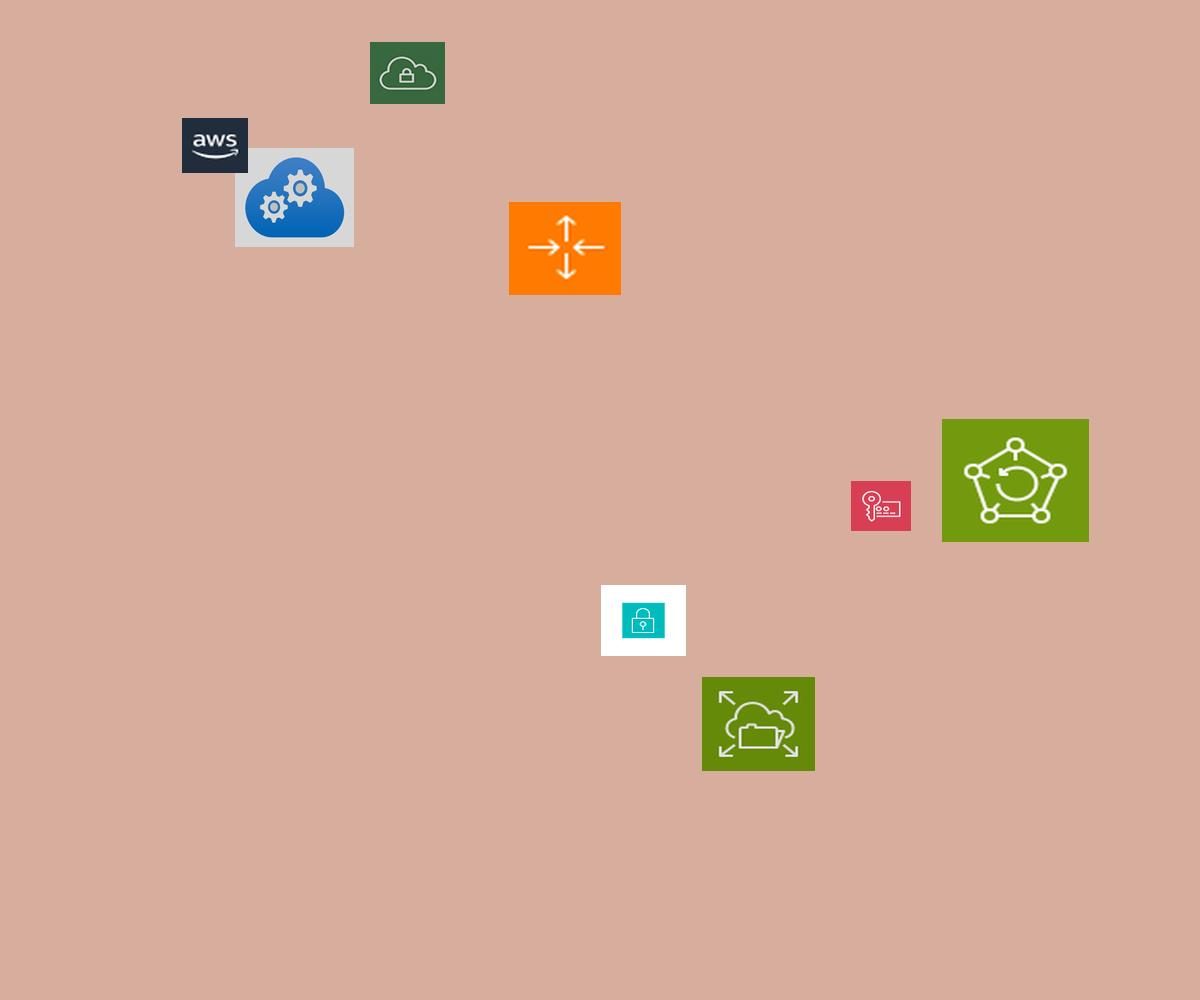AWS-Backup: (942, 419, 1089, 542)
AWS-Cloud-logo: (182, 118, 248, 173)
AWS-EFS: (702, 677, 815, 771)
AWS-Key-Management-Service: (851, 481, 911, 531)
AWS-Private-subnet: (601, 585, 686, 656)
AWS-Private_vpc: (370, 42, 445, 104)
AWS-Scaling-group: (509, 202, 621, 295)
Azure_cloud_services: (235, 148, 354, 247)
